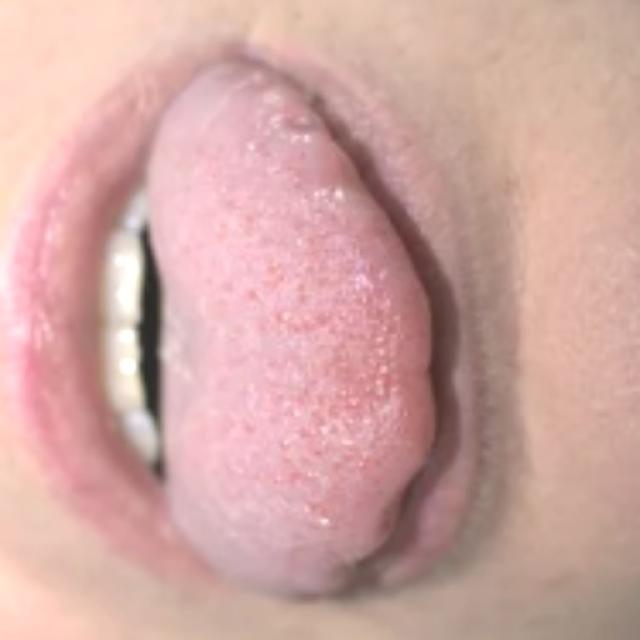processing_area: (140, 51, 437, 596)
